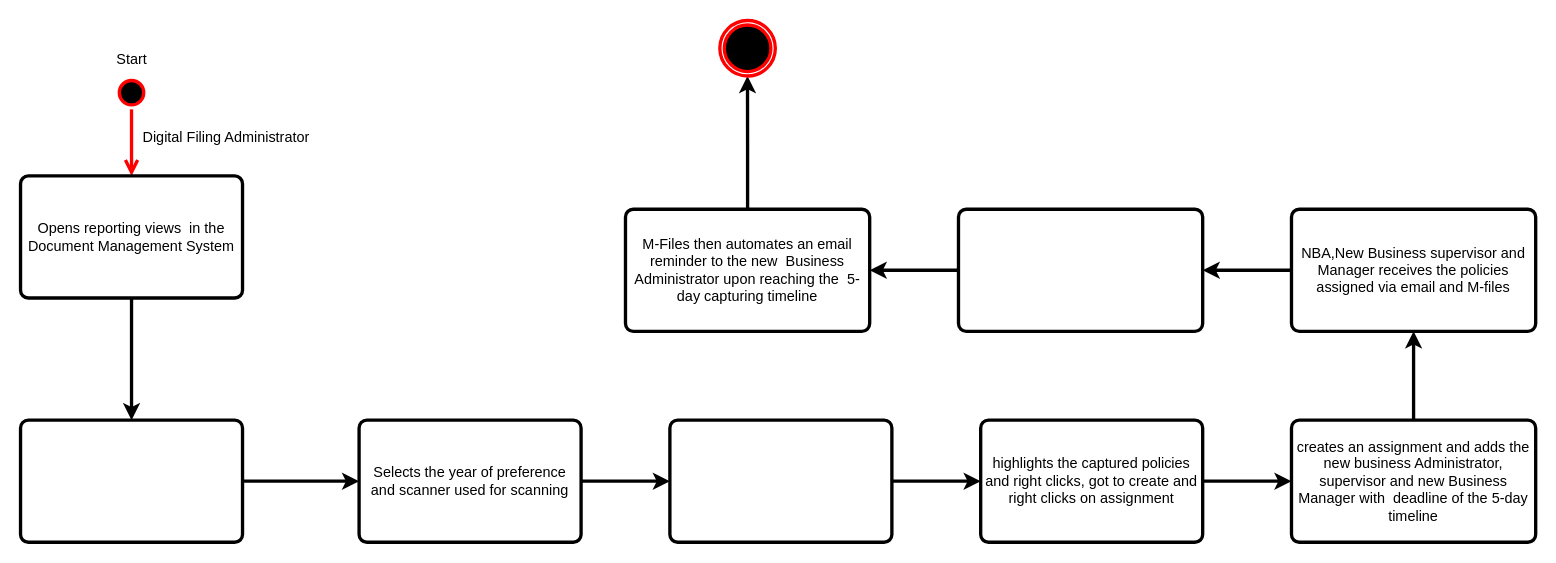
Some shapes in this 1556 by 563 pixel diagram are drawn without their labels. Each missing label, with the box of its shape:
Digital Filing Administrator stamps the proposal from and supporting document: (956, 207, 1204, 332)
Opens document imported creation report listings by sender email: (18, 418, 244, 543)
selects the month and date of scanning: (668, 418, 893, 543)
